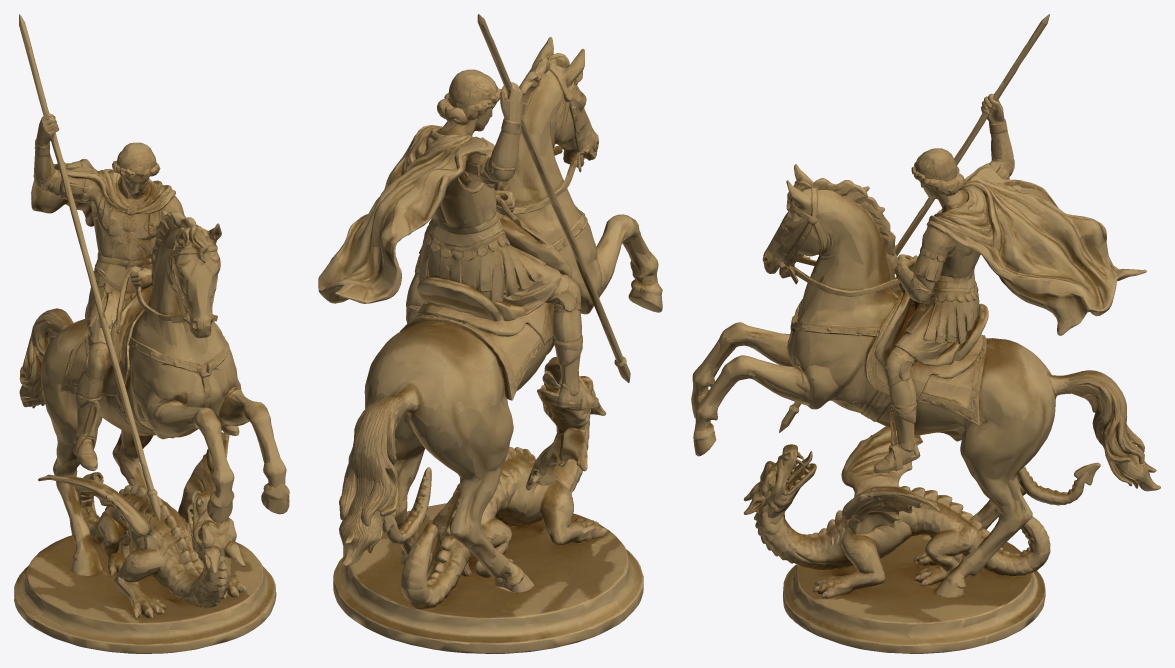
File: st-george.glb
3 renders of one model, left to right at view 1: azimuth 30°, elevation 25°; view 2: azimuth 150°, elevation 25°; view 3: azimuth 270°, elevation 25°, orthographic. The views are drawn at different scales.
Size of the model in its own units: 0.8241 by 1.9 by 1.46.
Materials: 1 (1 with a texture image).
